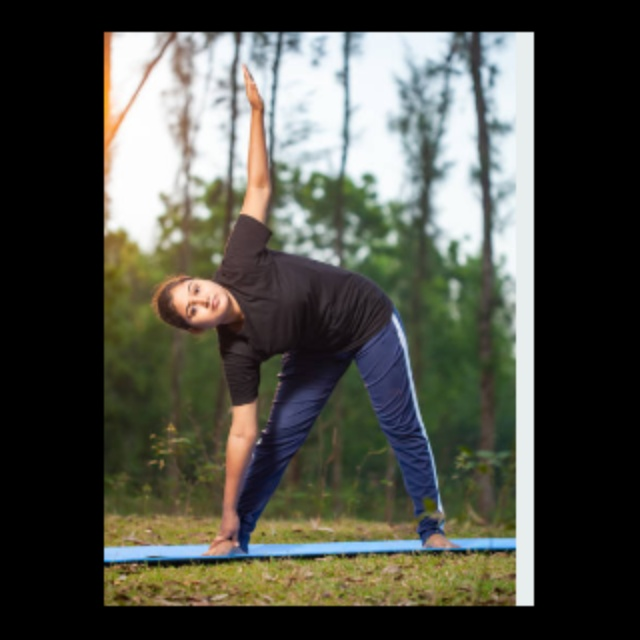Triangle_Pose: (144, 58, 474, 559)
